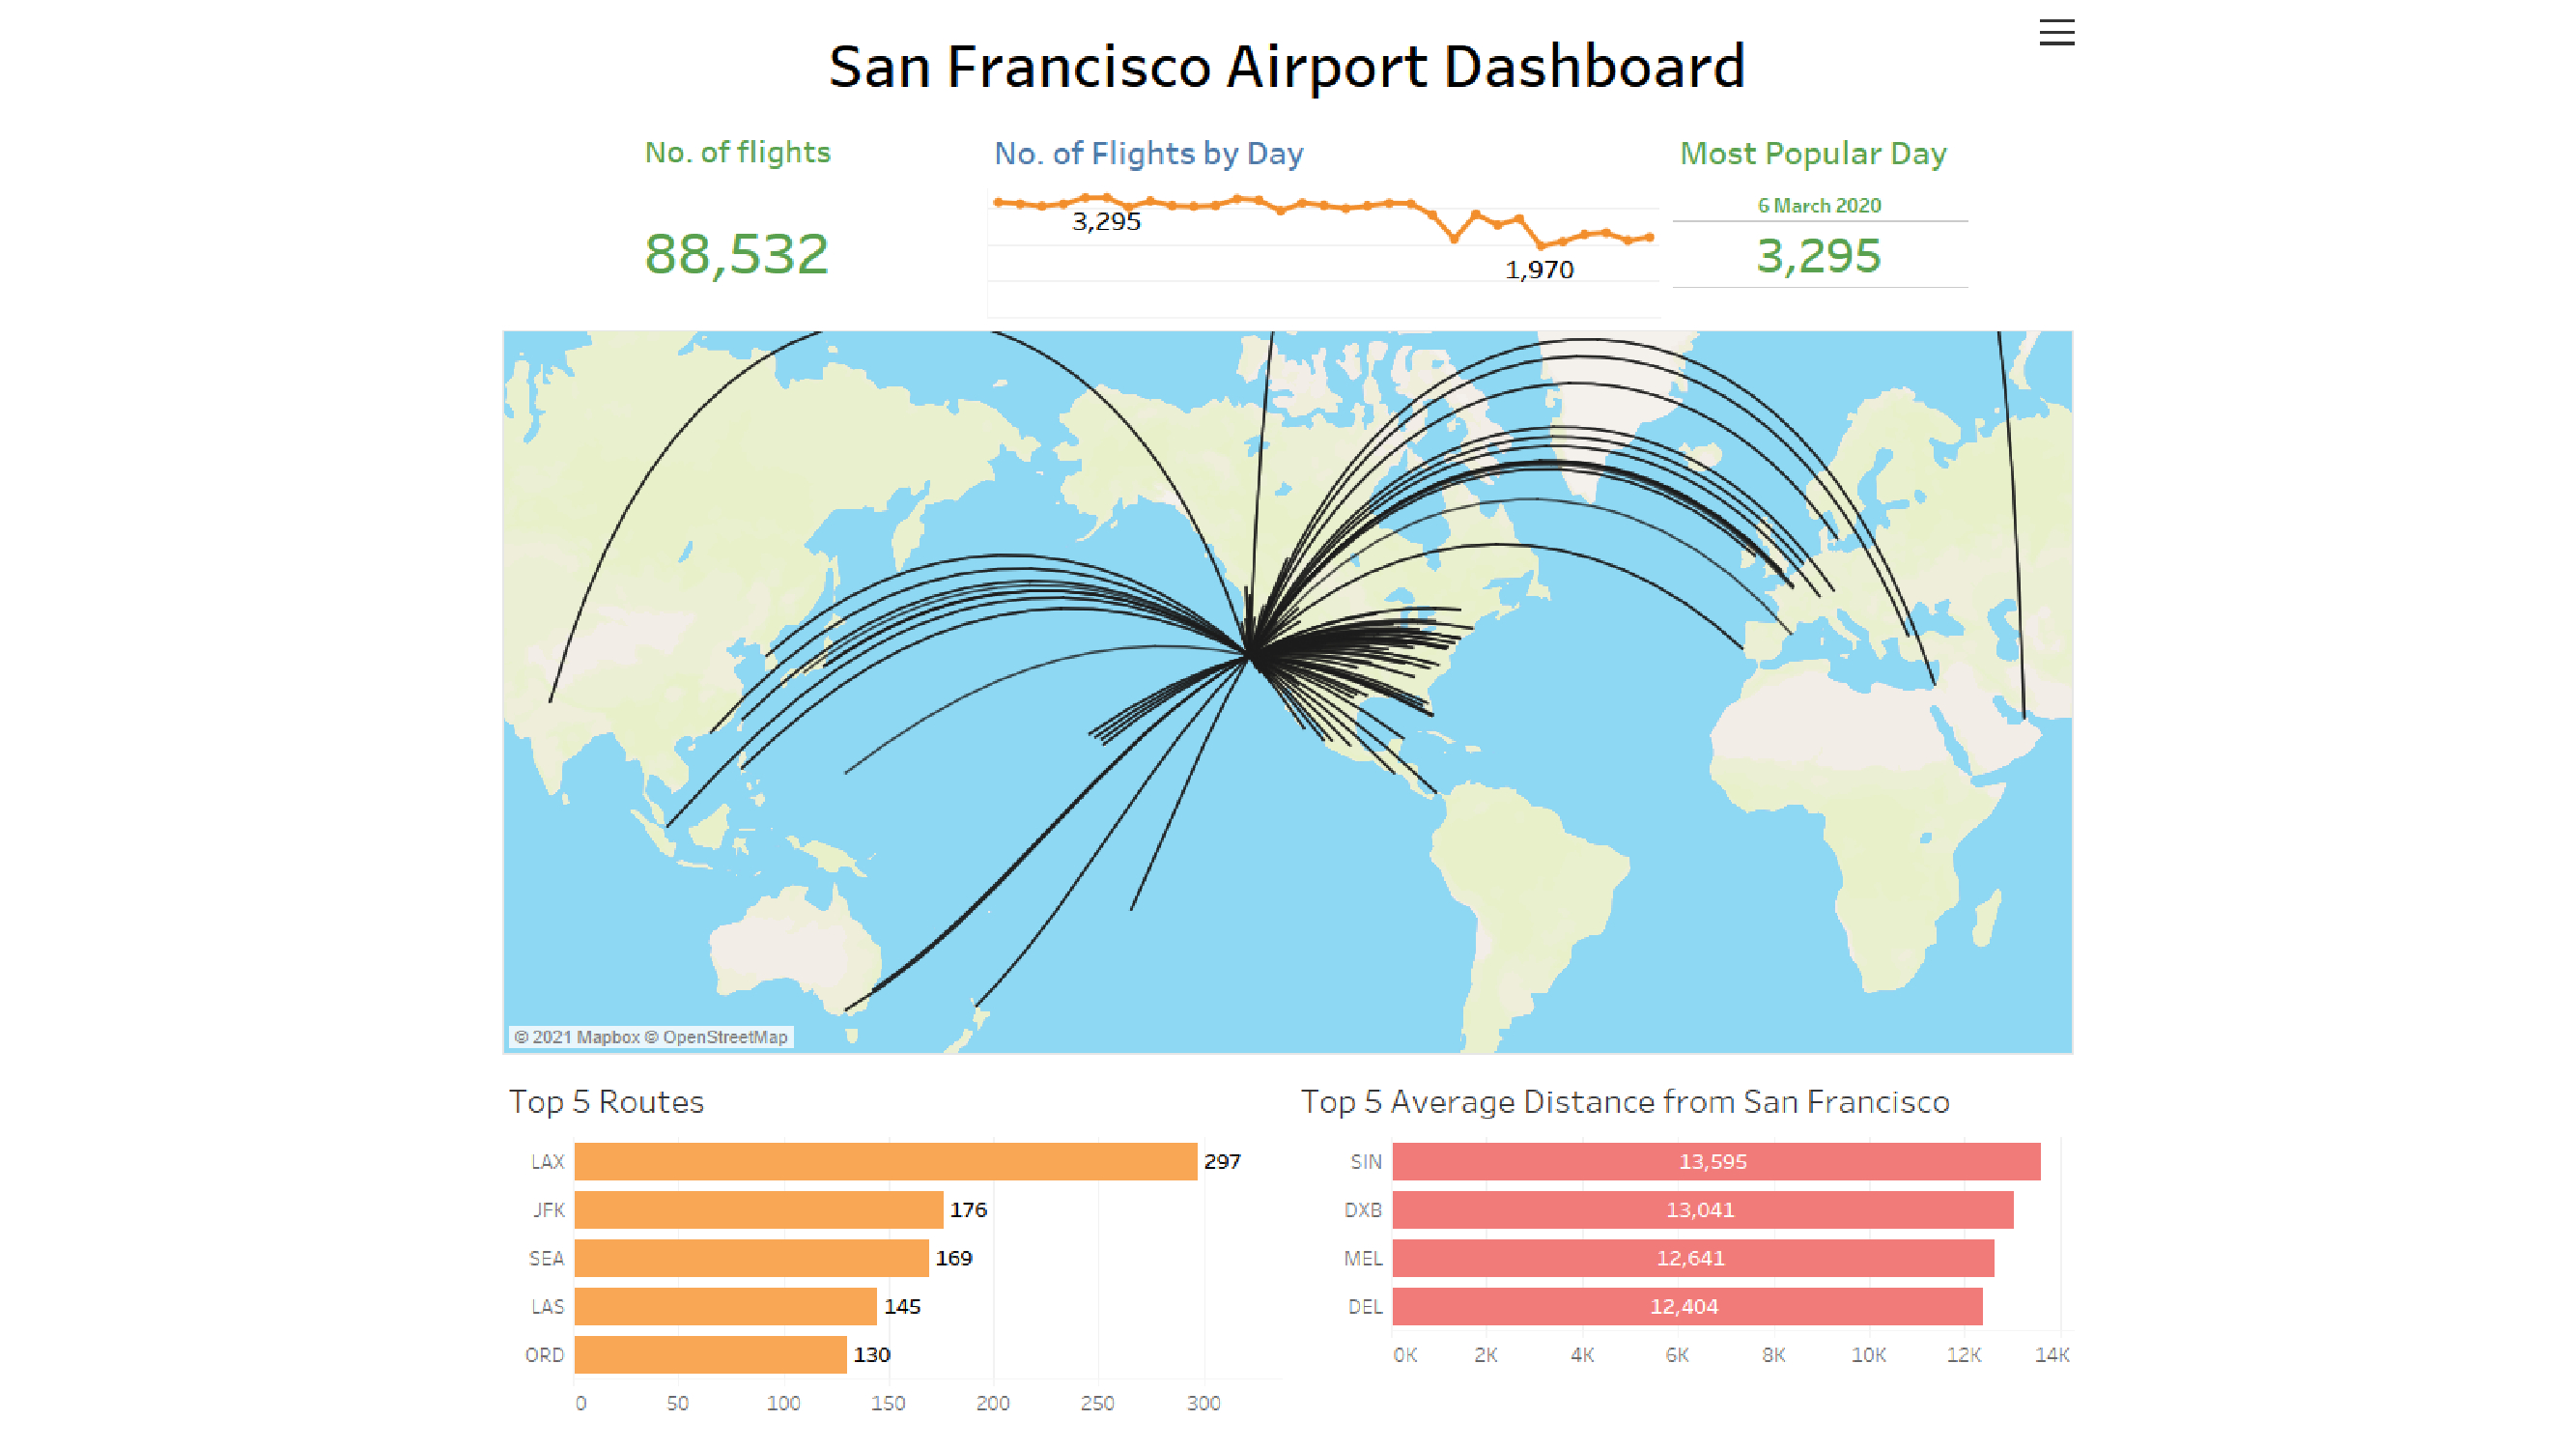

What the dashboard file says about the page in this screenshot:
{"tool":"tableau","page":{"name":"Final Dashboard","canvas":[1000,900],"ordinal":0},"visuals":[{"type":"text","box":[8,8,984,62]},{"type":"dashboard-object","box":[966,8,24,24]},{"type":"filter","title":"Most Popular Day","param":"[federated.0uhvu041tudpjz16a82cf1n6bkop].[none:Date:ok]","box":[828,38,160,67]},{"type":"worksheet","title":"No. of flights","mark":"Automatic","box":[8,70,301,130.8]},{"type":"worksheet","title":"No. of flights by Day","mark":"Line","rows":["Number of Records"],"cols":["Date"],"box":[309,70,426,130.8]},{"type":"worksheet","title":"Most Popular Day","mark":"Automatic","cols":["Date"],"box":[735,70,257,130.8]},{"type":"filter","title":"Maps","param":"[federated.0uhvu041tudpjz16a82cf1n6bkop].[sum:Calculation_2251863298813956:qk]","box":[828,105,160,67]},{"type":"filter","title":"Routes","param":"[federated.0uhvu041tudpjz16a82cf1n6bkop].[none:Route:nk]","box":[828,172,160,67]},{"type":"worksheet","title":"Maps","mark":"Automatic","box":[8,200.8,984,458.2]},{"type":"worksheet","title":"Routes","mark":"Automatic","rows":["Calculation_2251863297216513"],"cols":["Number of Records"],"box":[8,659,492,233]},{"type":"worksheet","title":"Distance","mark":"Automatic","rows":["Calculation_2251863297216513"],"cols":["Calculation_2251863298813956"],"box":[500,659,492,233]}]}

Visuals, with their boxes on the page's 1000x900 design canvas (x1, y1, x2, y2). These are canvas units, not pixel positions in the 2576x1449 screenshot, which may show the page scaled, cropped or inside an application window:
text: 8/8/992/70
dashboard-object: 966/8/990/32
"Most Popular Day" filter: 828/38/988/105
"No. of flights" worksheet: 8/70/309/201
"No. of flights by Day" worksheet (Line marks): 309/70/735/201
"Most Popular Day" worksheet: 735/70/992/201
"Maps" filter: 828/105/988/172
"Routes" filter: 828/172/988/239
"Maps" worksheet: 8/201/992/659
"Routes" worksheet: 8/659/500/892
"Distance" worksheet: 500/659/992/892
